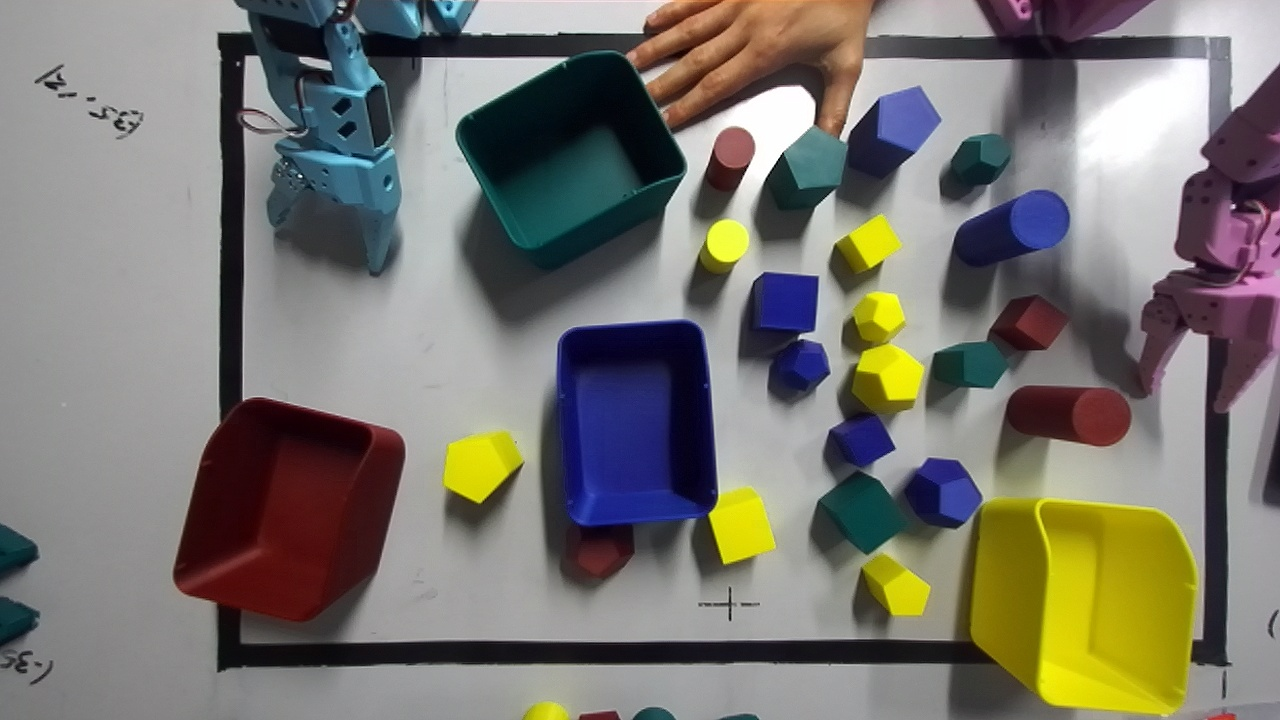bin: (173, 398, 404, 620), (456, 51, 685, 268), (970, 498, 1196, 713), (557, 320, 717, 526)
cube: (817, 471, 909, 554), (707, 487, 775, 564), (987, 295, 1068, 350), (750, 272, 817, 332), (834, 215, 901, 272), (827, 413, 895, 466)
cylinder: (953, 190, 1069, 266), (1006, 385, 1130, 445), (705, 127, 754, 190), (698, 219, 748, 273)
dodecahedron: (904, 458, 982, 527), (852, 344, 923, 412), (566, 524, 634, 578), (769, 340, 830, 392), (950, 134, 1011, 185), (852, 292, 905, 343)
hexagonal: (847, 86, 940, 177), (766, 126, 846, 209), (442, 431, 523, 503), (862, 554, 930, 615), (931, 340, 1007, 387)
